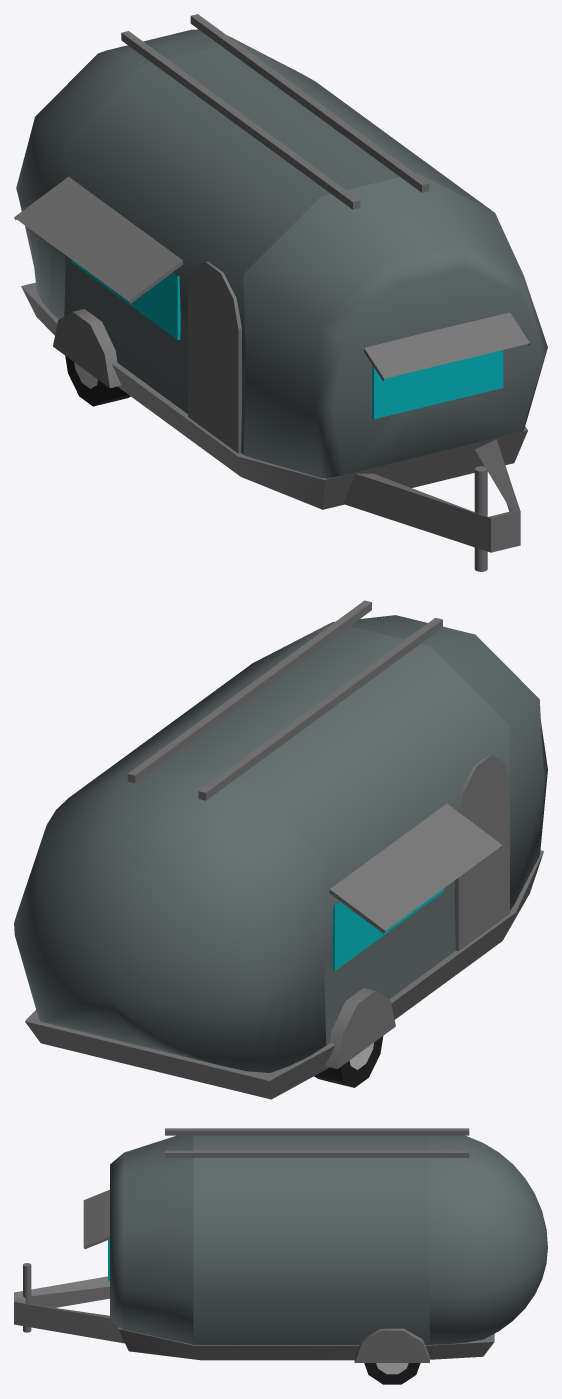
File: Prop_FilmTrailer_Mod_01.fbx
The picture shows the model from 3 angles, top to bottom: view 1: azimuth 30°, elevation 25°; view 2: azimuth 150°, elevation 25°; view 3: azimuth 270°, elevation 25°; orthographic projection. The views are drawn at different scales.
Visible parts, largest first — view 1: Trailer; view 2: Trailer; view 3: Trailer.
Part boxes in pixels (left/top/right/bottom): Trailer: left=14, top=14, right=547, bottom=571; Trailer: left=14, top=600, right=547, bottom=1099; Trailer: left=14, top=1128, right=547, bottom=1384.
Bounding box in the file's own units: 2.15 × 1.86 × 4.52.
